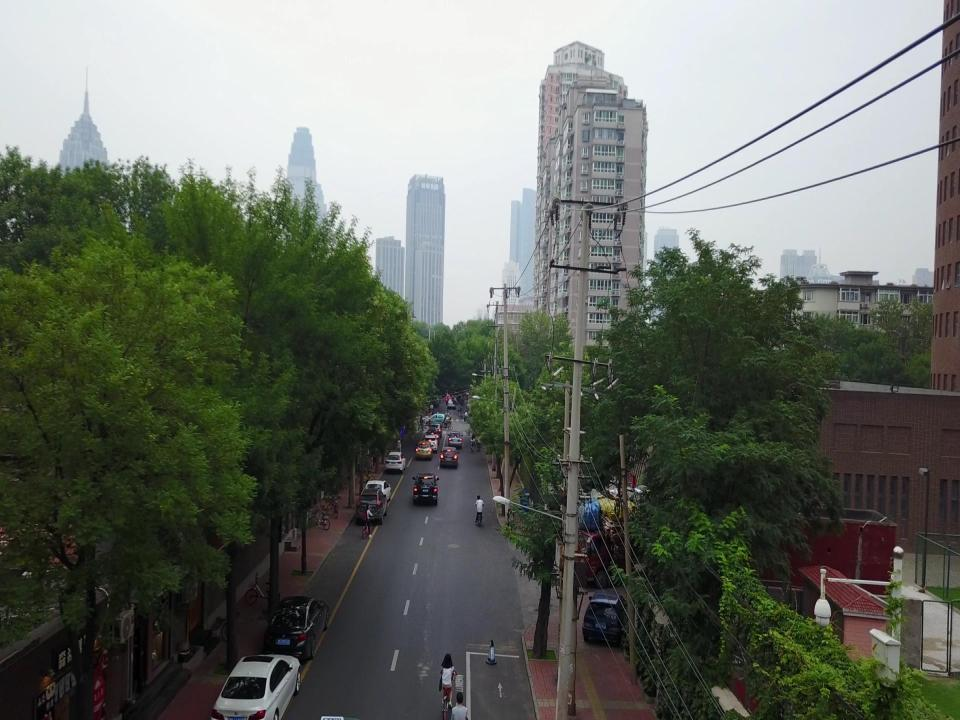car: (211, 653, 301, 719), (264, 596, 329, 660), (582, 592, 628, 644), (356, 488, 388, 523), (412, 472, 440, 503), (363, 480, 391, 508), (386, 451, 406, 472), (439, 446, 459, 467), (415, 441, 433, 458), (423, 434, 439, 452), (448, 430, 462, 449), (430, 422, 442, 438)
truck: (568, 511, 676, 588)
